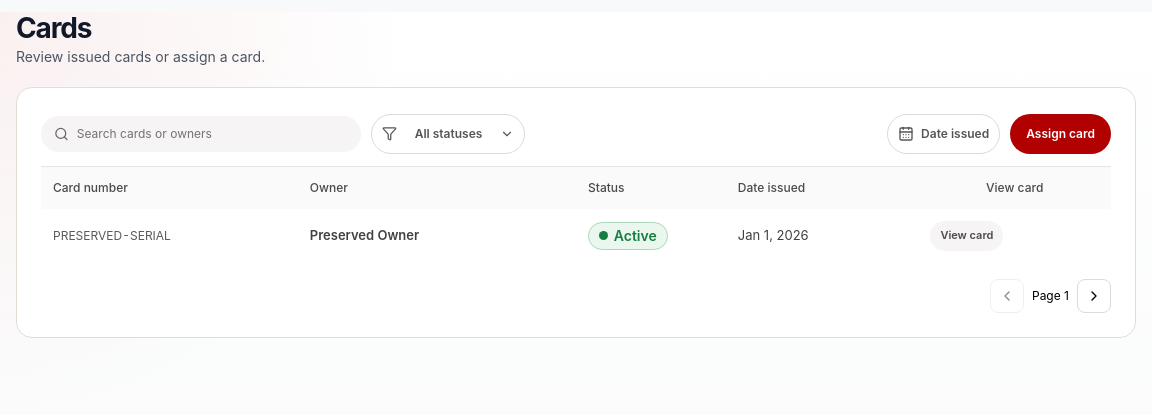
Scenario: Supervisor card management tabs › preserves the current page when navigation fails and retries the destination
The image size is (1152, 415).
expect the text "PRESERVED-SERIAL" is shown: met, box [41,209,298,263]
Step 1. Click the button named "Next page" → (1094, 296), box [1077,279,1111,313]
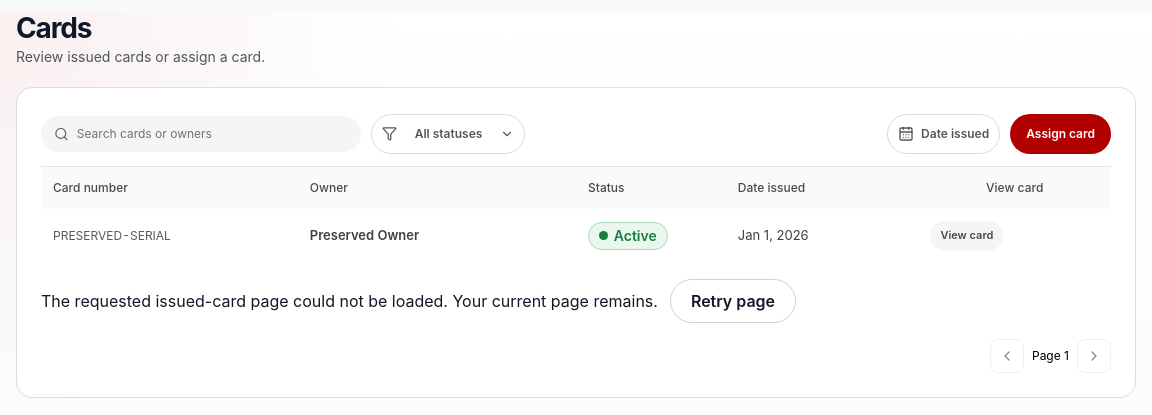
expect the text "PRESERVED-SERIAL" is shown: met, box [41,209,298,263]
expect the message shows "The requested issued-card page could not be loaded.": met, box [41,291,658,311]
Step 2. Click the button "Retry page" → (733, 301), box [670,279,796,323]
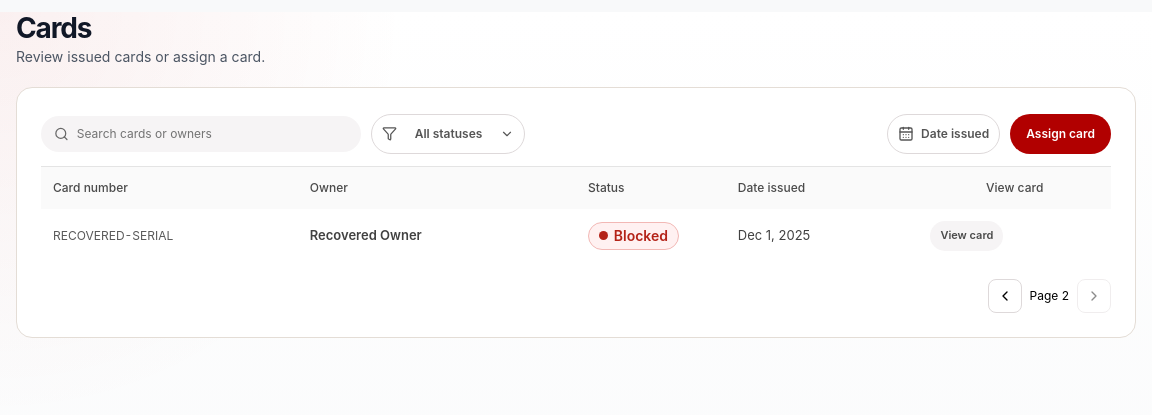
expect the text "RECOVERED-SERIAL" is shown: met, box [41,209,298,263]
expect the text "PRESERVED-SERIAL" is gone: met
expect the text "Page 2" is shown: met, box [1030,287,1069,305]
